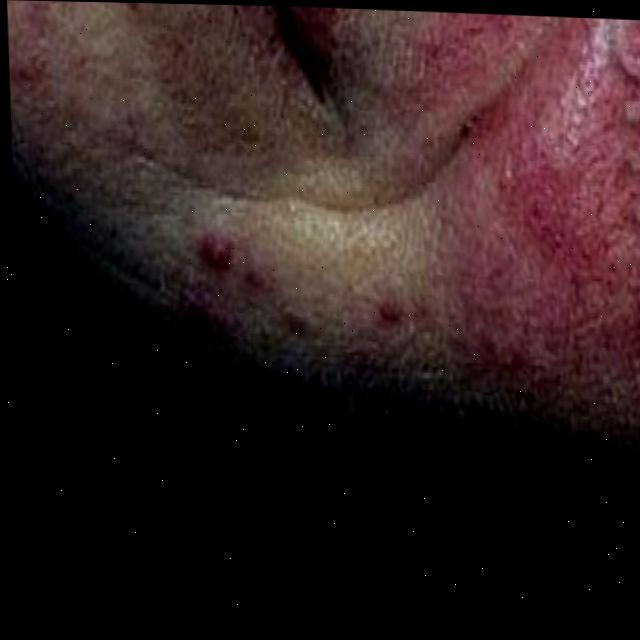Rosacea: (406, 10, 640, 404)
